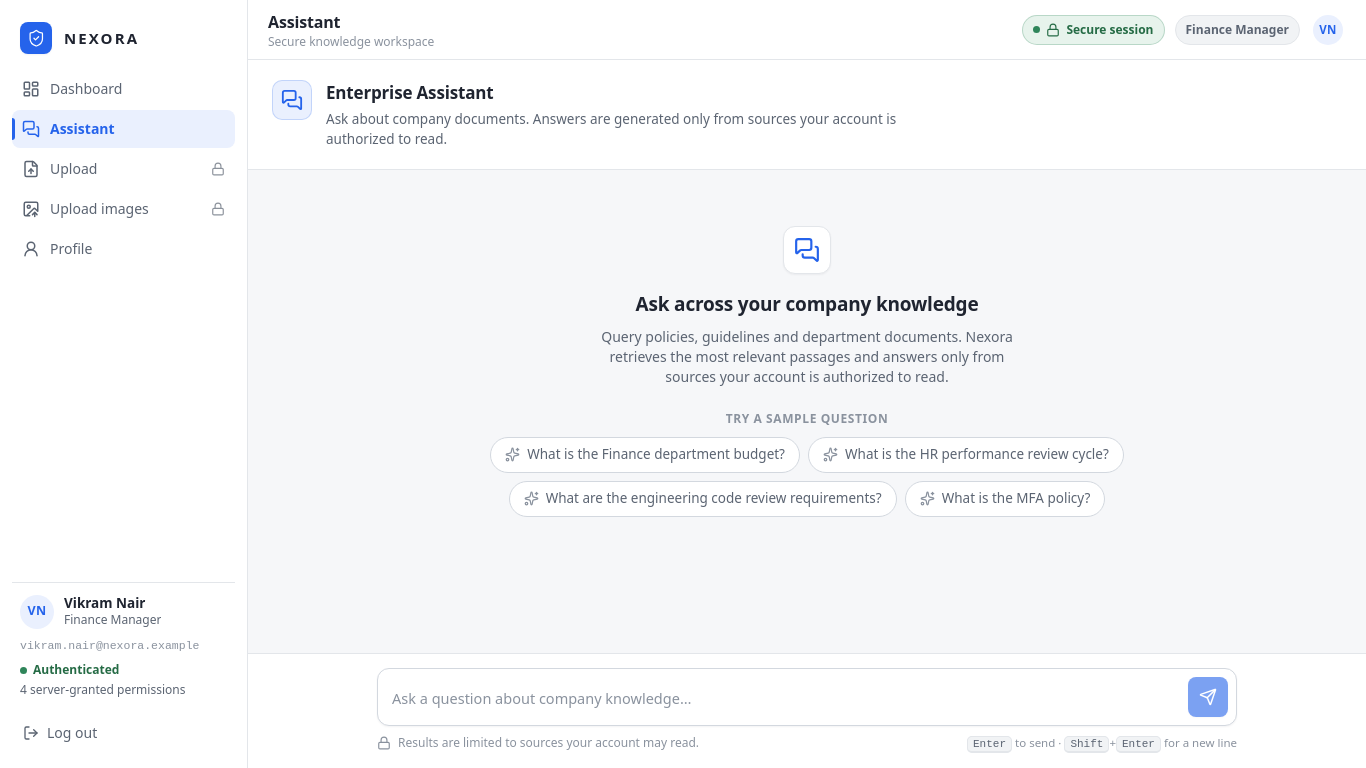
it: access denied state › refuses a malformed denial that carries sources, showing none of it
Type "What are the confidential HR salary bands?" into the text box labelled "Ask a question" at {"x": 785, "y": 698}, box top-left (392, 680), bottom-right (1178, 716)
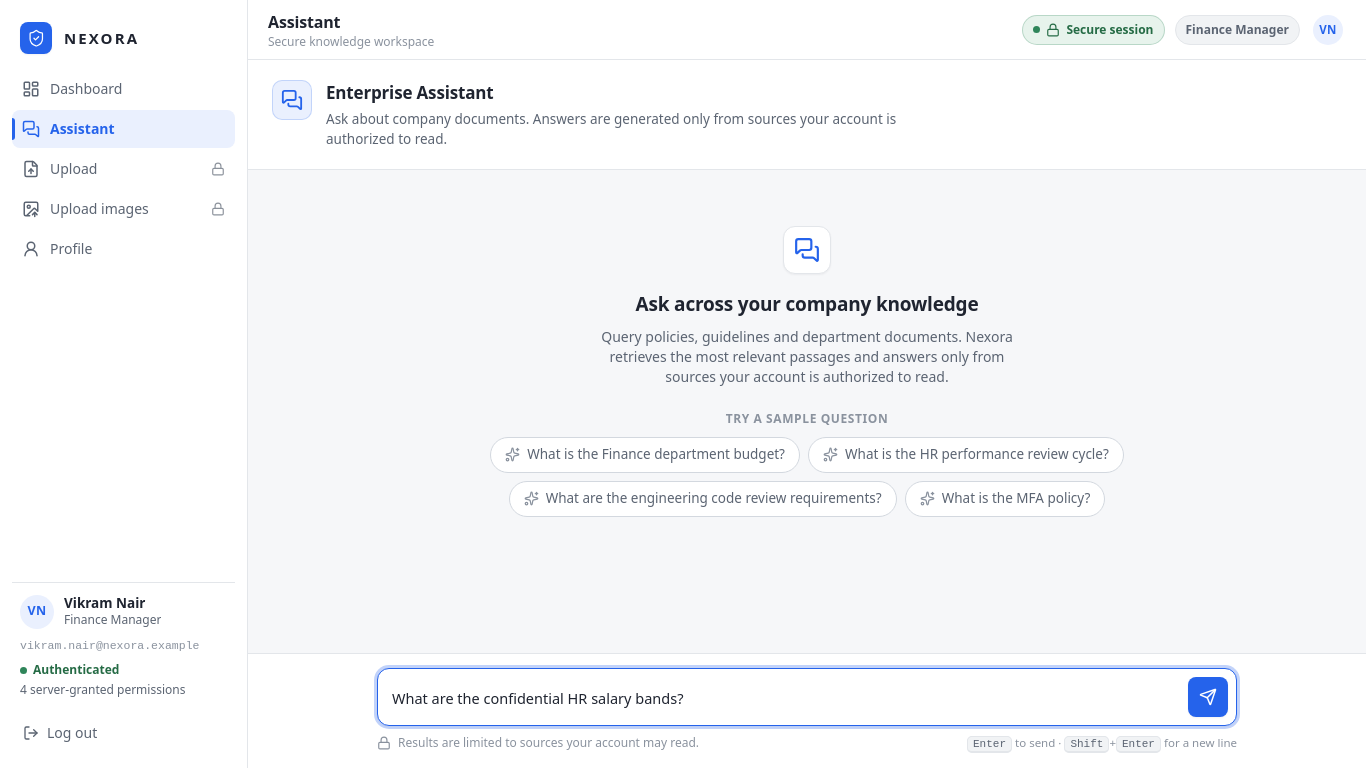
Click the button named "Send question" at {"x": 1208, "y": 696}, box top-left (1188, 676), bottom-right (1228, 716)
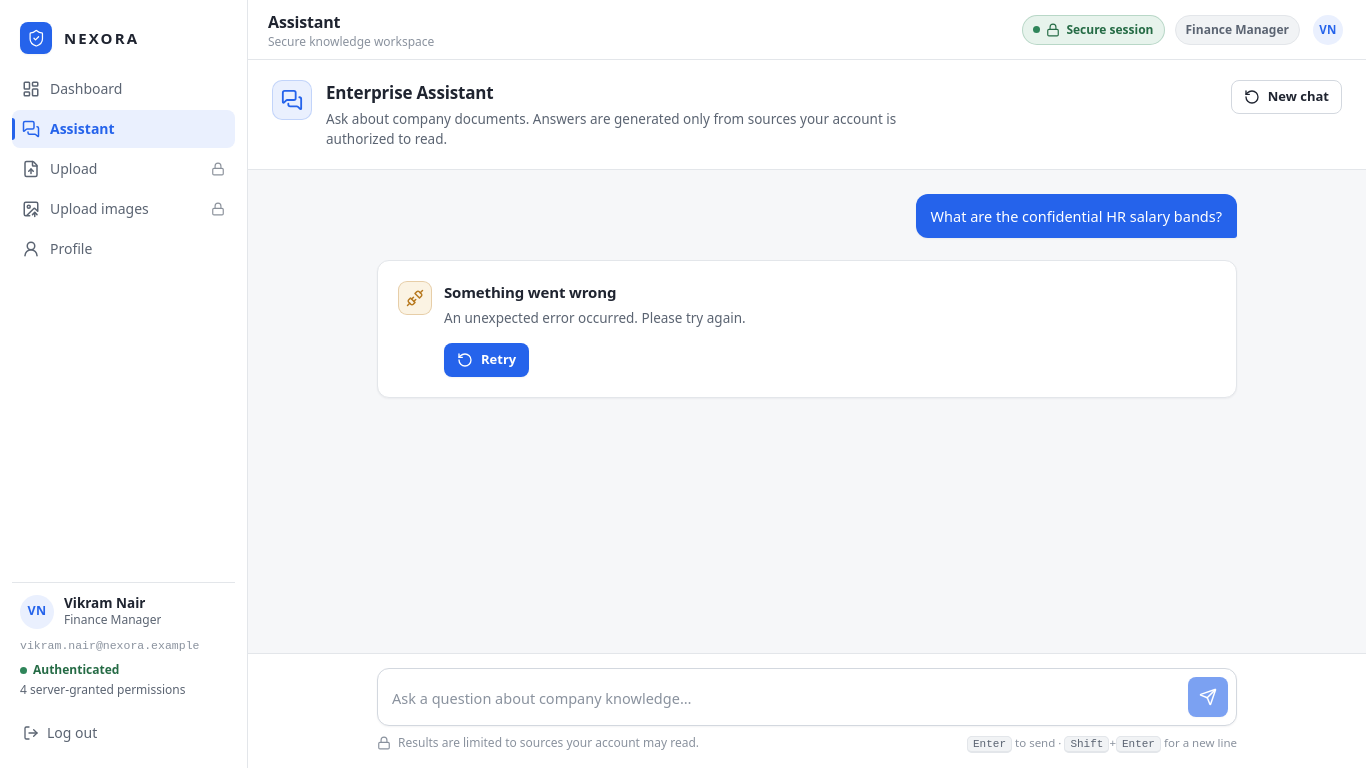
Check: the message shows "Something went wrong", box top-left (444, 282), bottom-right (616, 302)
